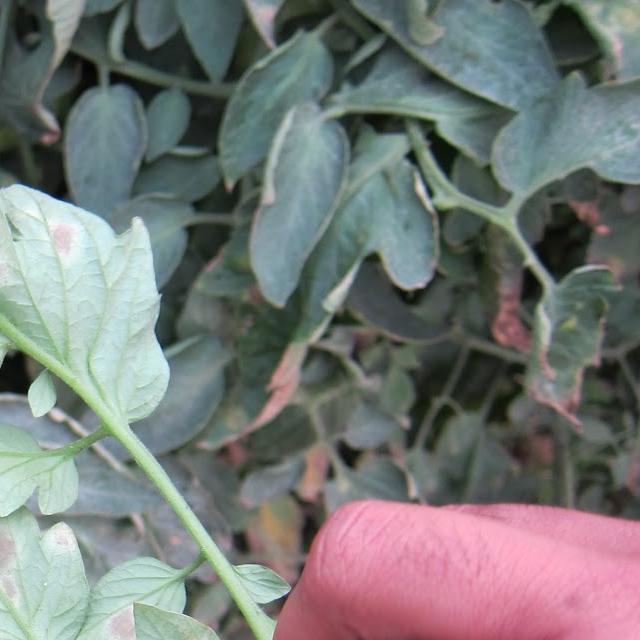Tomato mold leaf: (0, 9, 158, 430), (0, 449, 94, 640), (0, 385, 105, 512), (111, 577, 235, 640)
